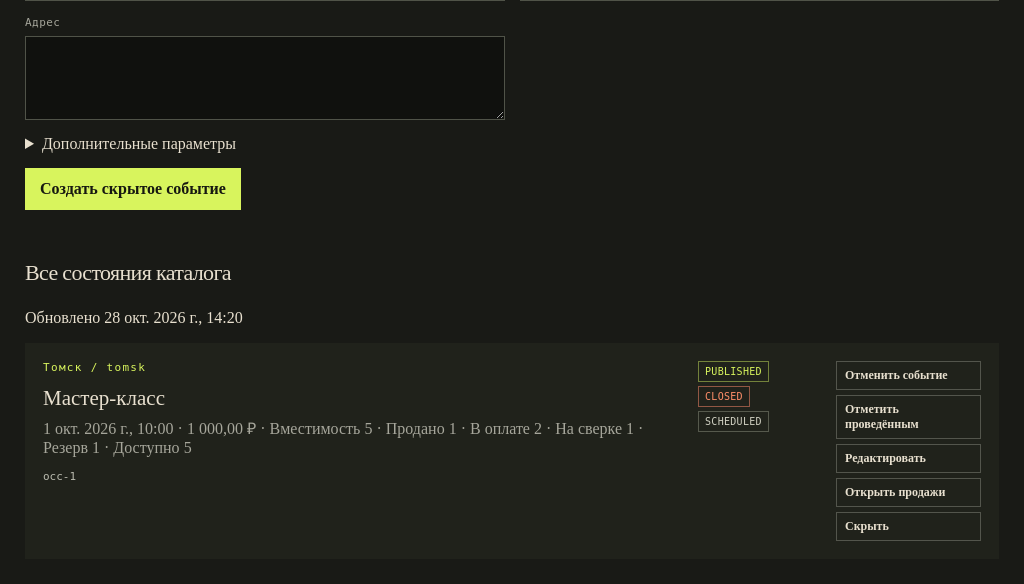
Test: Occurrences › shows the occurrence as CANCELLED and its financials become available after occurrence.cancel invalidates the list and cancellationFinancials (A2, part a)
This screenshot has width=1024, height=584.
(page scrolled)
Expected: the heading "Мастер-класс" is shown, [43, 386, 165, 410]
Expected: the text "SCHEDULED" is shown, [698, 411, 769, 432]
Step 1. Click the button "Отменить событие" → (908, 375), box [836, 361, 981, 390]
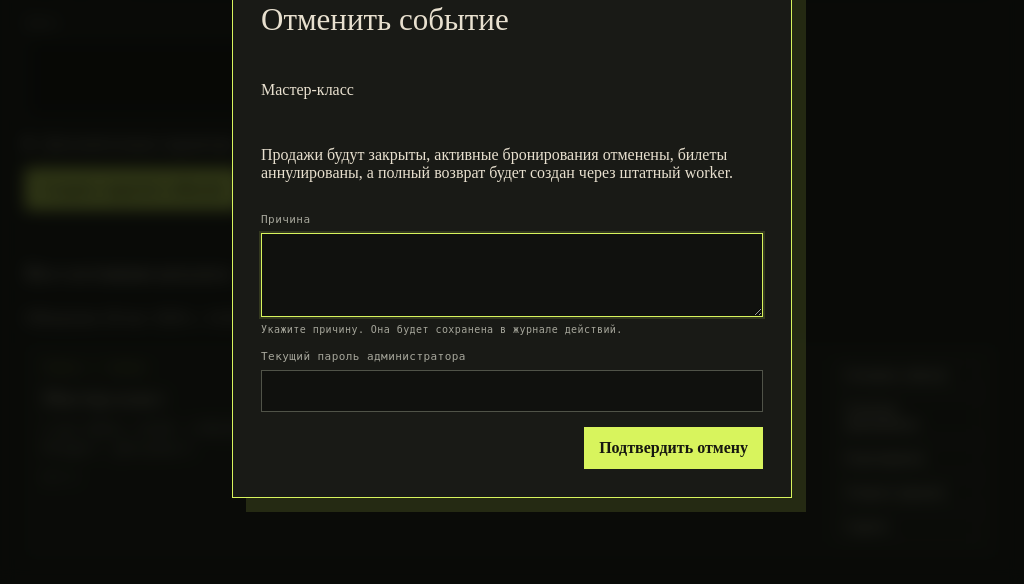
Step 2. Type "Форс-мажор" into the text box labelled "Причина" → (512, 274), box [261, 232, 763, 316]
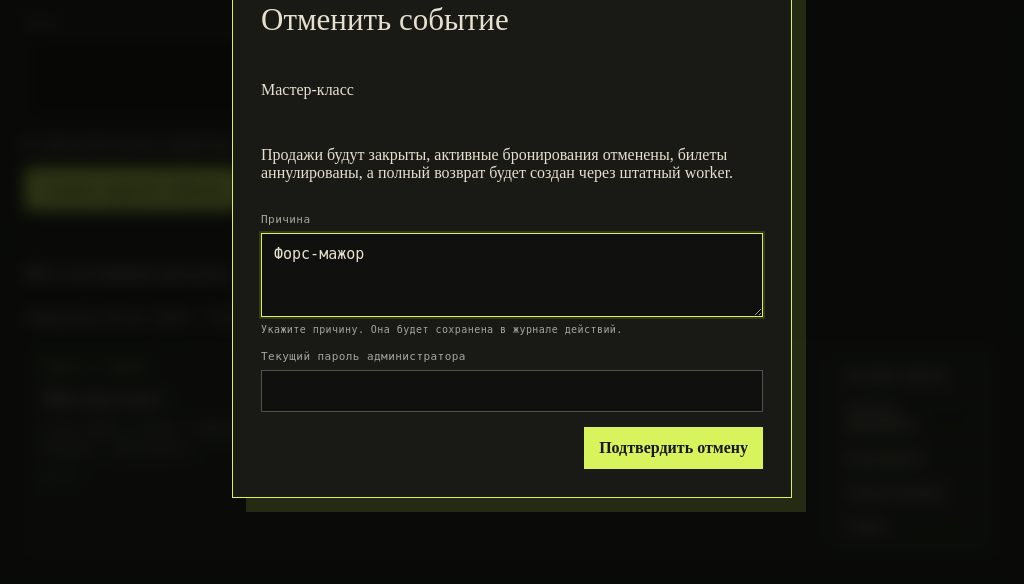
Step 3. Type "correct horse" into the password field labelled "Текущий пароль администратора" → (512, 390), box [261, 370, 763, 412]
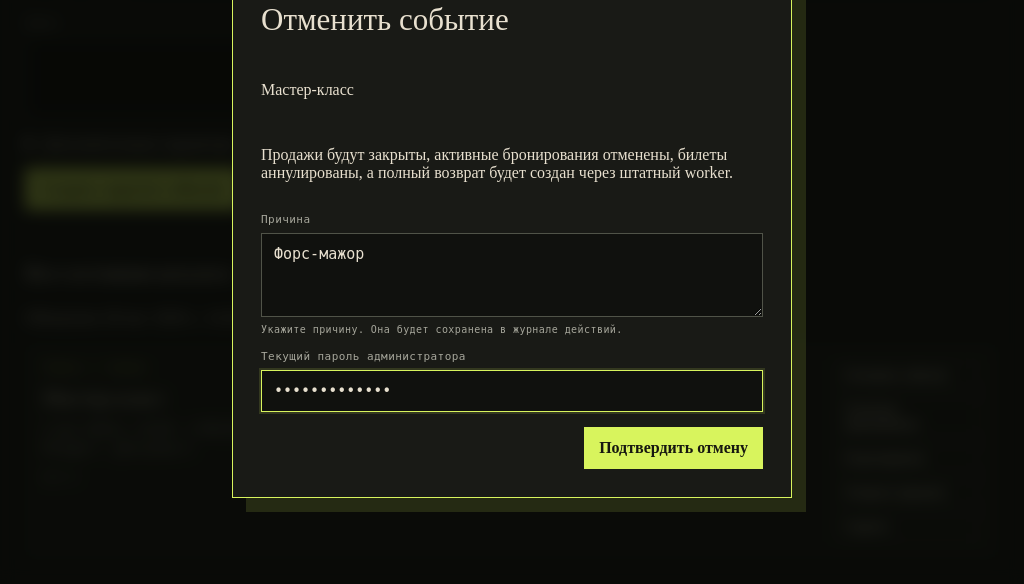
Step 4. Click the button "Подтвердить отмену" → (674, 448), box [584, 426, 763, 468]
(page scrolled)
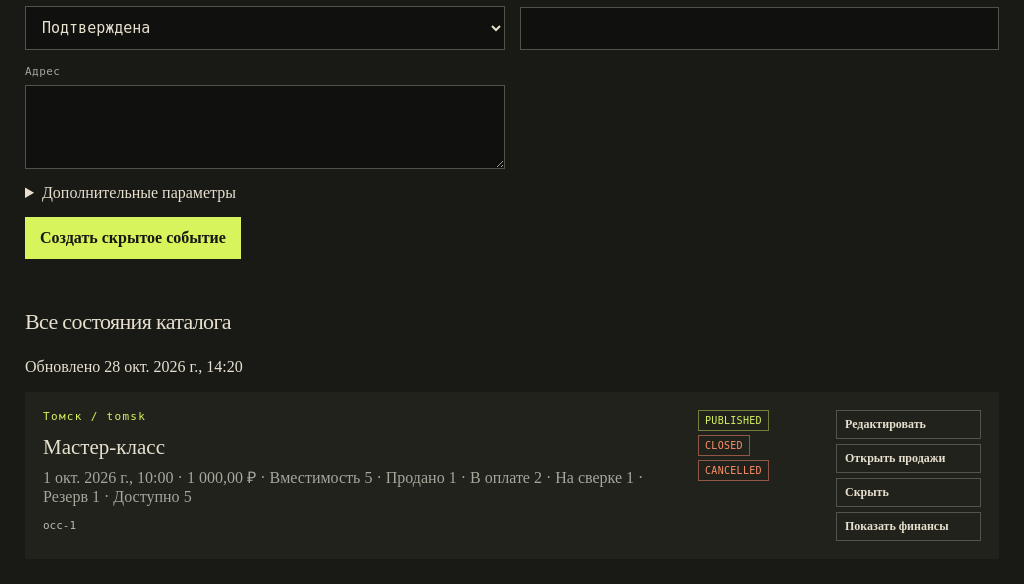
Now the text "CANCELLED" is shown, box [698, 460, 769, 481]
Step 5. Click the button "Показать финансы" → (908, 526), box [836, 512, 981, 541]
(page scrolled)
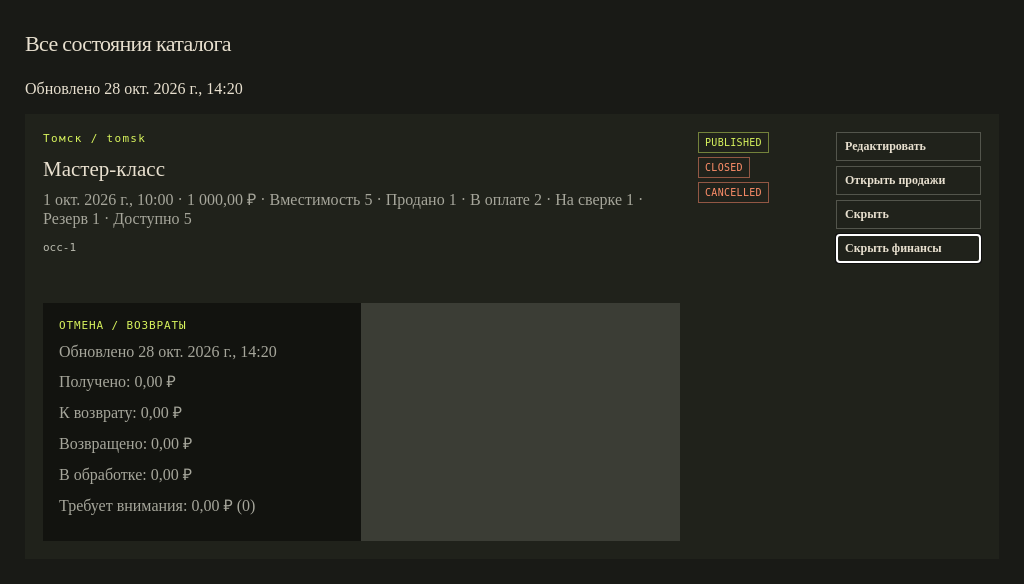
Now the text "К возврату: 0,00 ₽" is shown, box [59, 404, 182, 421]
